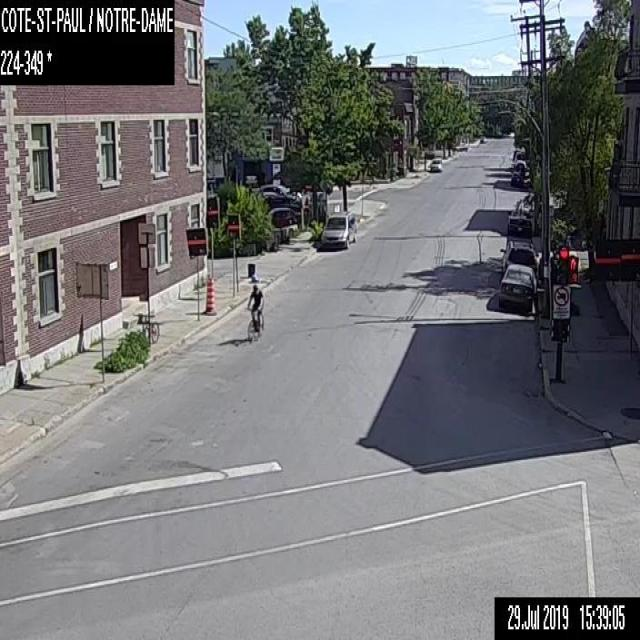construction: (203, 275, 216, 313)
cyclist: (245, 282, 264, 340)
vehicle: (498, 264, 536, 314), (499, 238, 538, 273), (320, 211, 356, 248), (259, 184, 300, 204), (504, 208, 532, 234), (267, 207, 303, 222), (510, 168, 523, 187), (512, 159, 526, 174), (429, 157, 443, 171), (514, 151, 526, 161), (512, 149, 518, 159), (479, 136, 486, 142)
